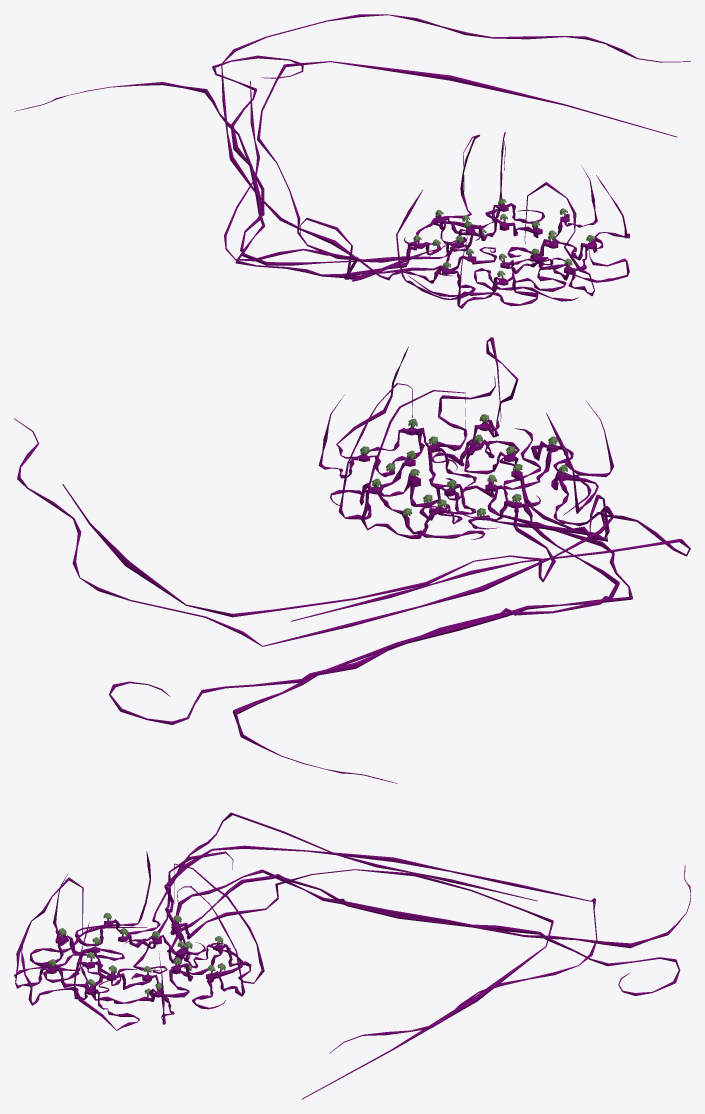
The model's file is raizes.fbx.
3 views of the same model, one above another, from view 1: azimuth 30°, elevation 25°; view 2: azimuth 150°, elevation 25°; view 3: azimuth 270°, elevation 25° (orthographic). The views are drawn at different scales.
Parts seen in each view (by area): view 1: pCylinder58, mudaFlor20; view 2: pCylinder58, mudaFlor20; view 3: pCylinder58, mudaFlor20.
Part boxes in pixels (x1,y1,x2,y2): pCylinder58: (14, 14, 690, 308); mudaFlor20: (413, 198, 594, 279); pCylinder58: (14, 337, 690, 783); mudaFlor20: (360, 414, 567, 517); pCylinder58: (14, 812, 690, 1099); mudaFlor20: (48, 912, 225, 997).
Size of the model in its own units: 36.23 by 7.02 by 40.67.
